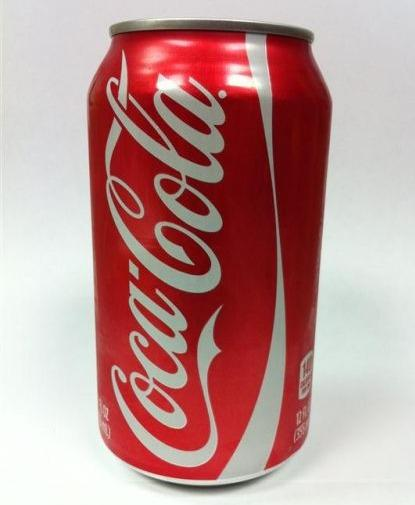metal: (88, 20, 331, 486)
